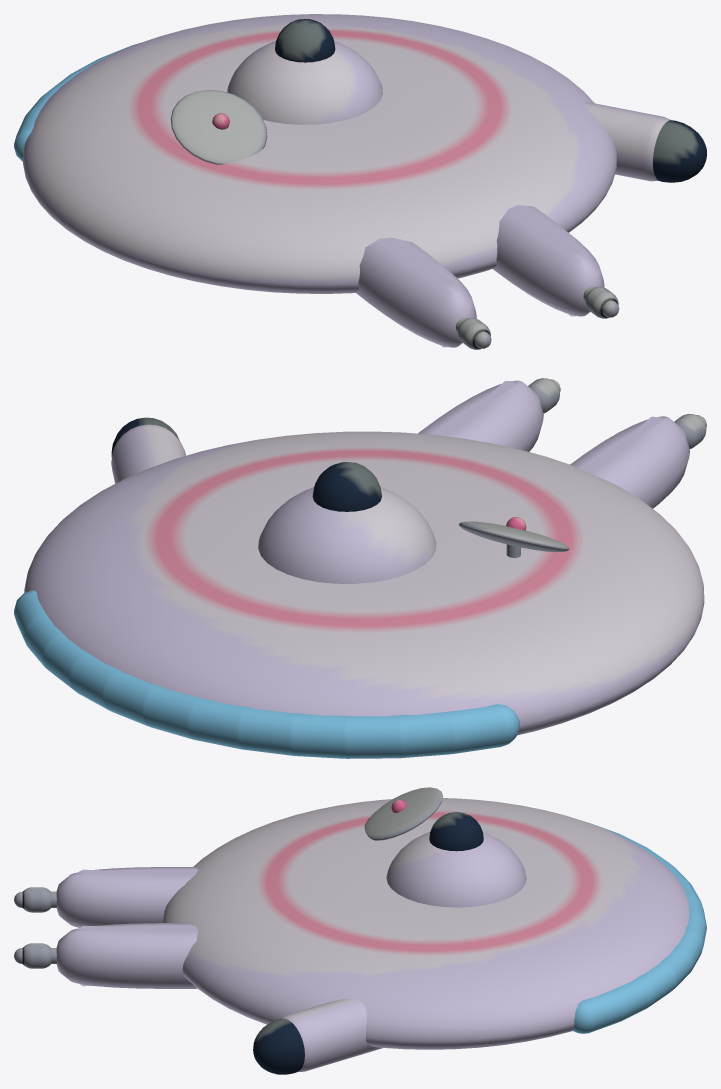
The model's file is saucer-starfighter-4.obj.
The picture shows the model from 3 angles, top to bottom: view 1: azimuth 30°, elevation 25°; view 2: azimuth 150°, elevation 25°; view 3: azimuth 270°, elevation 25°; orthographic projection. The views are drawn at different scales.
Parts seen in each view (by area): view 1: starfighter; view 2: starfighter; view 3: starfighter.
Part boxes in pixels (x1,y1,x2,y2): starfighter: (14,14,706,349); starfighter: (14,378,706,758); starfighter: (14,787,706,1074).
Size of the model in its own units: 249 by 70.36 by 298.
